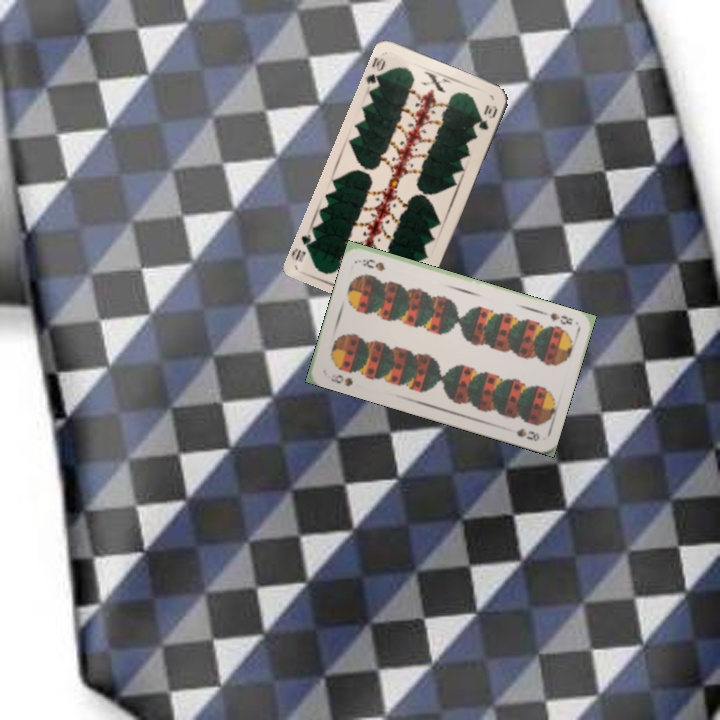G10: (362, 53, 388, 92)
S8: (326, 370, 356, 389), (545, 308, 575, 327)
